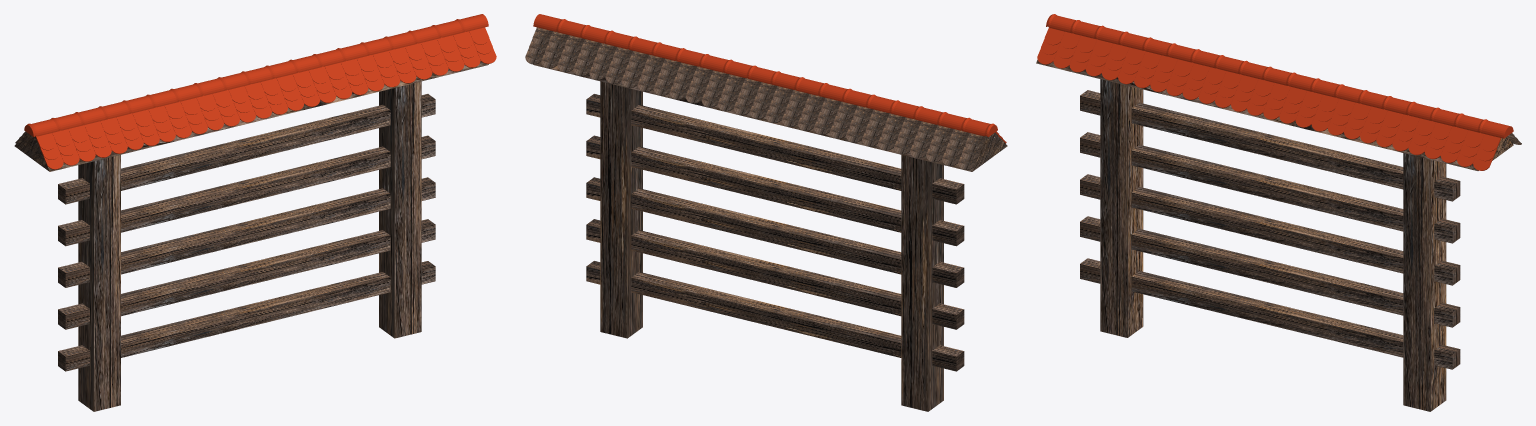
The model's file is kozolec4.fbx.
The picture shows the model from 3 angles, left to right: view 1: azimuth 30°, elevation 25°; view 2: azimuth 150°, elevation 25°; view 3: azimuth 330°, elevation 25°; orthographic projection.
Visible parts, largest first — view 1: Cube.004; view 2: Cube.004; view 3: Cube.004.
Boxes of the visible parts, x1,y1,x2,y2 form: Cube.004: (14,14,496,411); Cube.004: (525,14,1007,411); Cube.004: (1036,14,1521,411).
Bounding box in the file's own units: 741 × 460 × 104.
